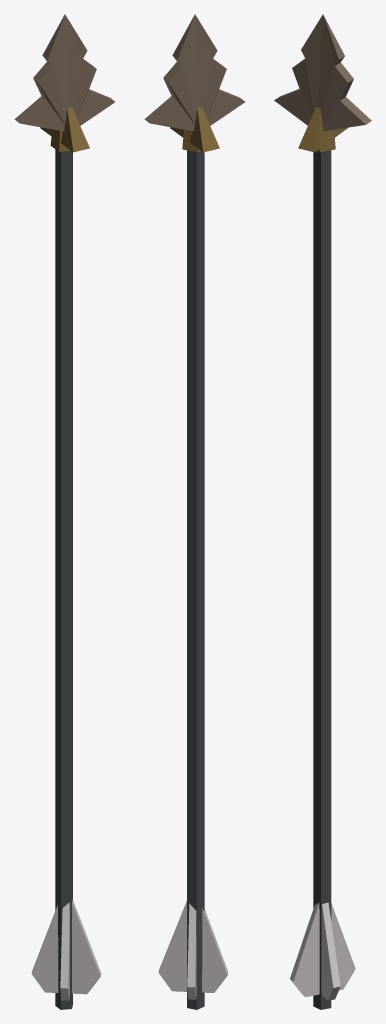
The model's file is _arrow_c_13.glb.
The picture shows the model from 3 angles, left to right: view 1: azimuth 30°, elevation 25°; view 2: azimuth 210°, elevation 25°; view 3: azimuth 330°, elevation 25°; orthographic projection.
Parts seen in each view (by area): view 1: arrow_c_13; view 2: arrow_c_13; view 3: arrow_c_13.
Part boxes in pixels (x1=…): arrow_c_13: x1=14, y1=14, x2=114, y2=1009; arrow_c_13: x1=144, y1=14, x2=244, y2=1009; arrow_c_13: x1=274, y1=14, x2=371, y2=1009.
Bounding box in the file's own units: 1987 × 19972 × 1219.
Materials: 1 (1 with a texture image).
